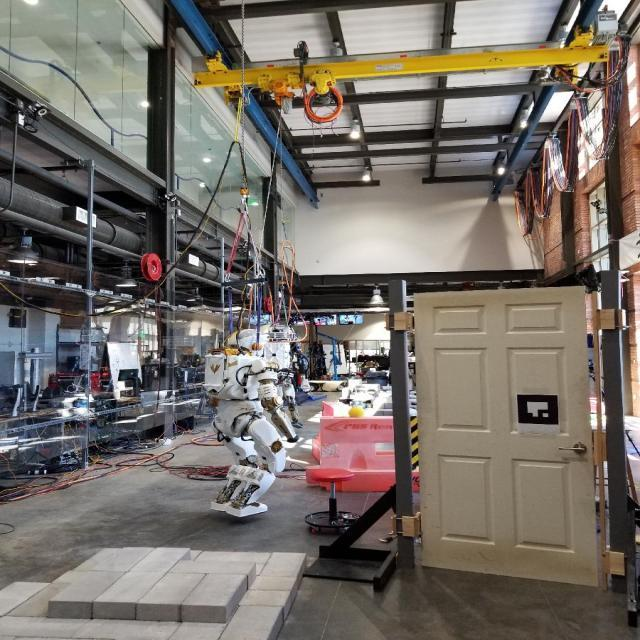door: (409, 284, 601, 592), (556, 439, 592, 460)
